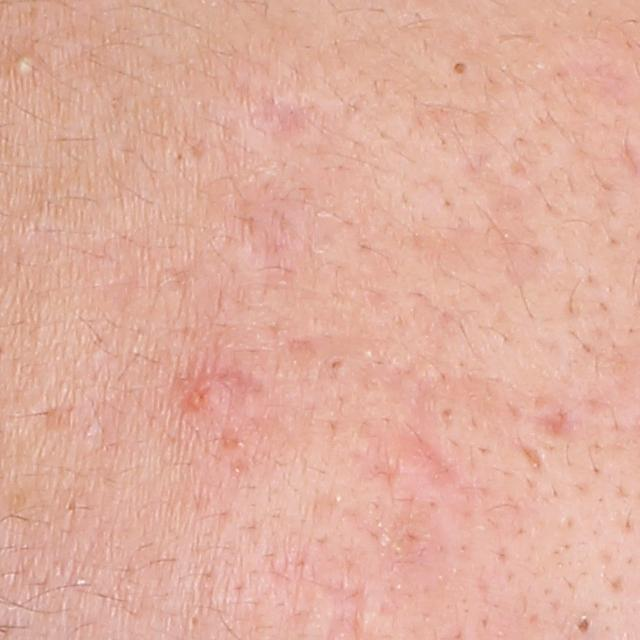atrophic_scar: (530, 407, 575, 444), (517, 438, 552, 477)
comedo: (573, 613, 591, 636)
papule: (176, 372, 226, 418)
